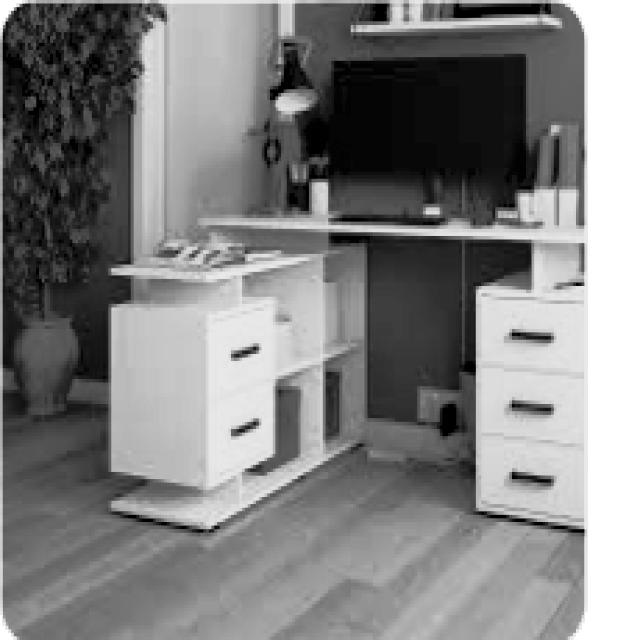table: (95, 174, 578, 532)
